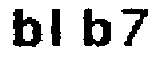7: (120, 5, 153, 53)
b: (5, 6, 44, 53), (76, 9, 115, 54)
l: (46, 4, 68, 56)
